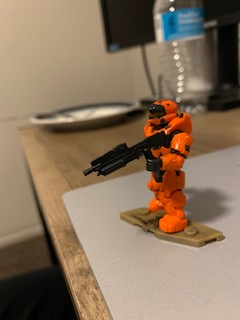rifle: (80, 129, 171, 181)
spartan: (143, 97, 197, 235)
